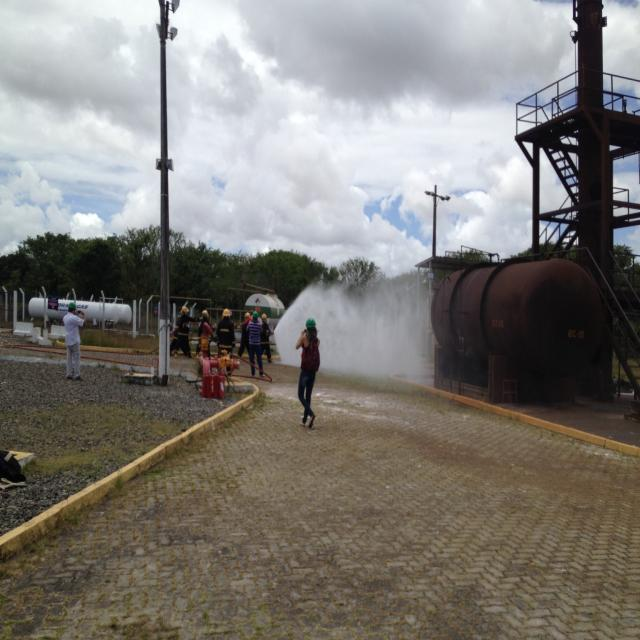no_fire: (44, 74, 624, 628)
